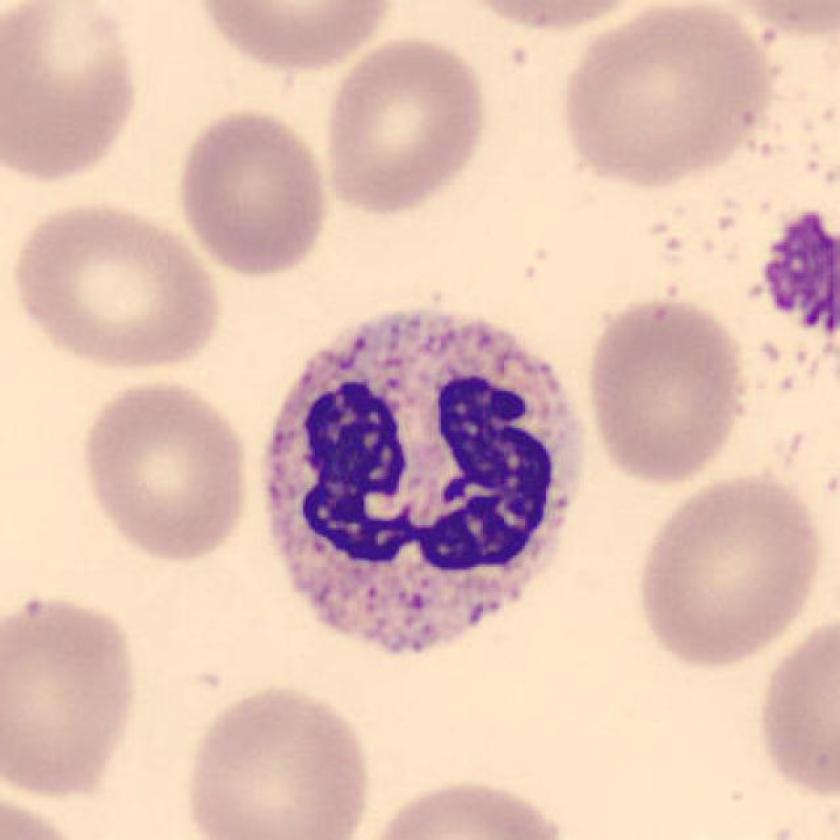neutrophil: (270, 316, 580, 657)
